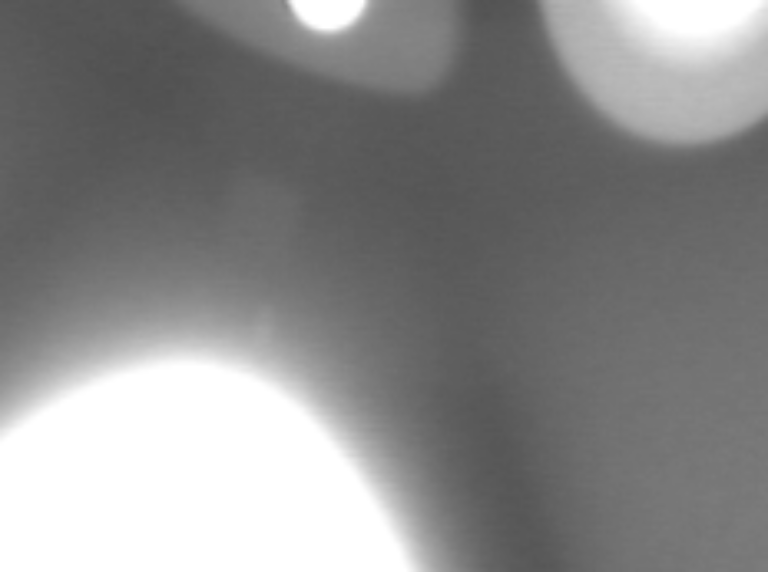defect: (255, 309, 285, 373)
